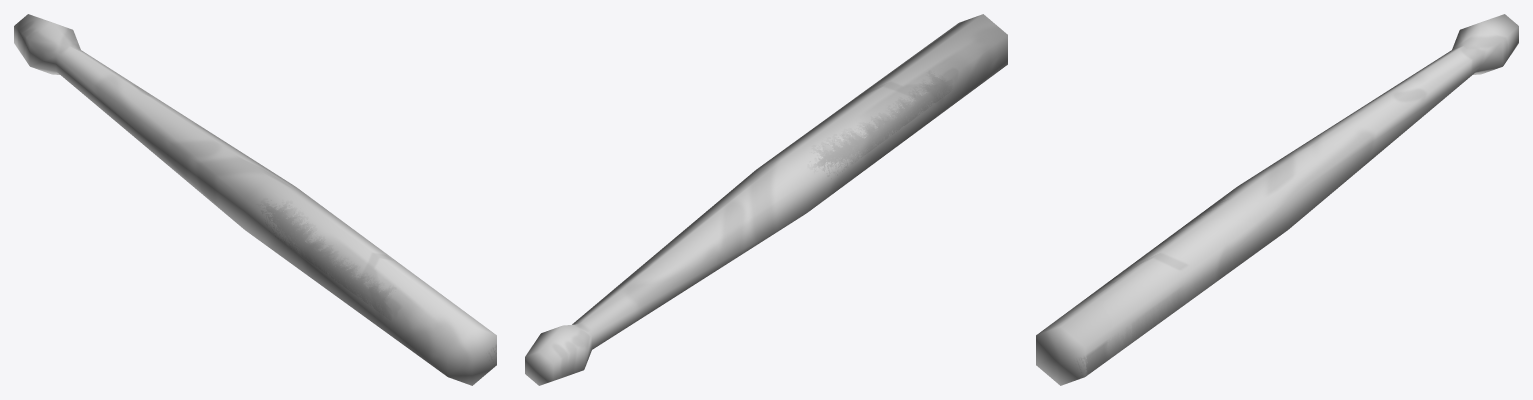
The model's file is obj_Drumstick.fbx.
The picture shows the model from 3 angles, left to right: view 1: azimuth 30°, elevation 25°; view 2: azimuth 150°, elevation 25°; view 3: azimuth 330°, elevation 25°; orthographic projection.
Parts seen in each view (by area): view 1: obj_Drumstick; view 2: obj_Drumstick; view 3: obj_Drumstick.
Boxes of the visible parts, box(x1,y1,x2,y2) form: obj_Drumstick: box(14, 14, 496, 385); obj_Drumstick: box(525, 14, 1007, 385); obj_Drumstick: box(1036, 14, 1518, 385).
Size of the model in its own units: 0.0343 by 0.0396 by 0.5163.
Materials: 1 (1 with a texture image).
